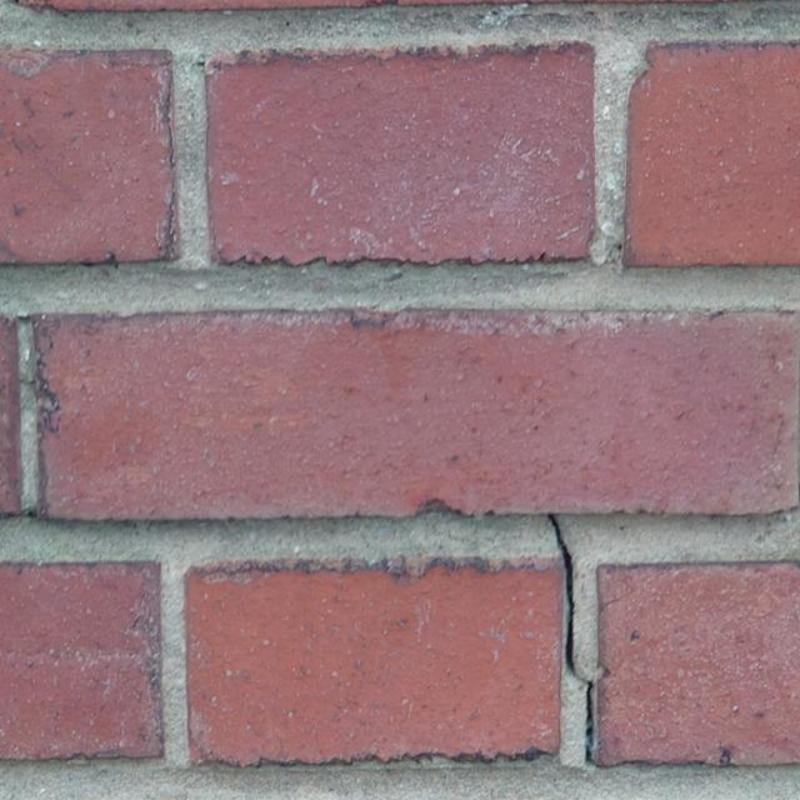crack: (547, 514, 594, 763)
